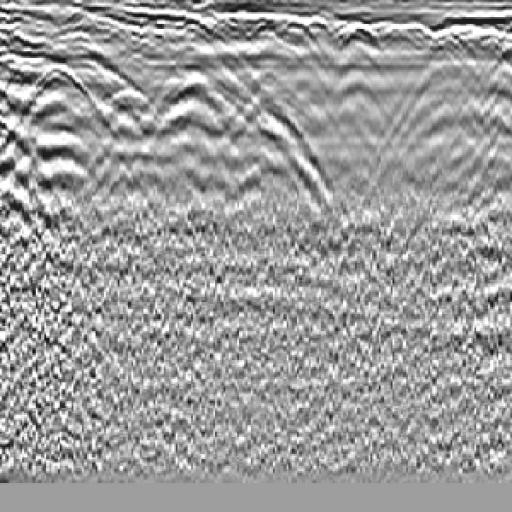non-metallic: (112, 59, 274, 195), (1, 53, 139, 209), (233, 81, 357, 225)
